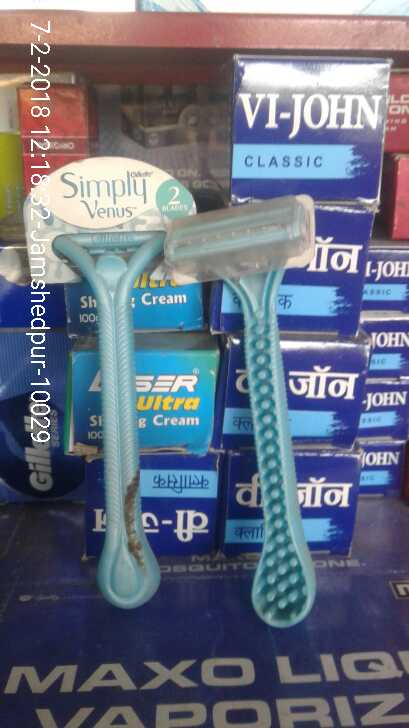reject: (161, 115, 298, 201)
